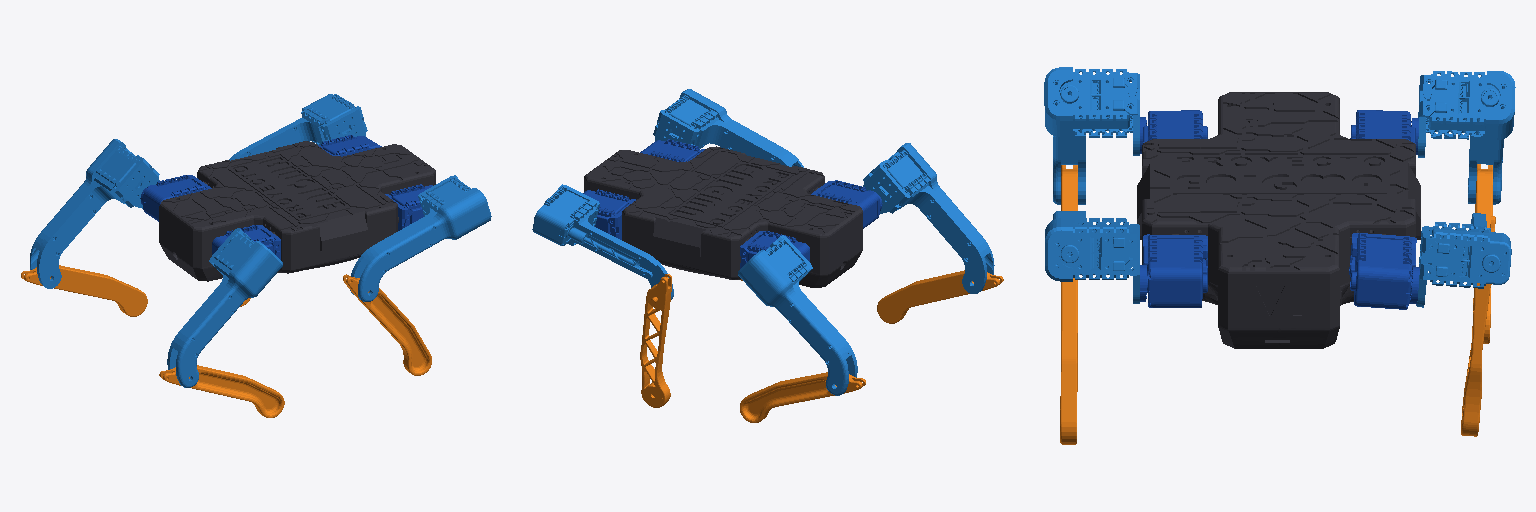
The robot description file, URDF, robot "miniqbot":
<?xml version="1.0"?>
<!--
  GENERATED FILE, DO NOT EDIT BY HAND.
  Source: Fusion design 'Fixed for URDF v43', via tools/fusion_to_urdf (see its README).
  Regenerate: python3 tools/fusion_to_urdf/build_urdf.py

  All link frames are parallel to base_link. Joint angle 0 = CAD pose.
  Total mass: 1.517 kg
-->
<robot name="miniqbot">
  <link name="base_link">
  </link>
  <link name="body_link">
    <inertial>
      <origin xyz="-0.00284444 0.000252426 -0.00959847" rpy="0 0 0"/>
      <mass value="0.738955"/>
      <inertia ixx="0.00189011" ixy="2.10814e-05" ixz="-3.39686e-05" iyy="0.00293598" iyz="3.8419e-06" izz="0.00436172"/>
    </inertial>
    <visual>
      <origin xyz="0 0 0" rpy="0 0 0"/>
      <geometry><mesh filename="package://miniqbot_description/meshes/body_link.stl"/></geometry>
      <material name="body_link_color"><color rgba="0.25 0.25 0.28 1"/></material>
    </visual>
    <collision>
      <origin xyz="-0.0001178 0 -0.0085" rpy="0 0 0"/>
      <geometry><box size="0.250036 0.168 0.055"/></geometry>
    </collision>
  </link>
  <link name="fl_hip_link">
    <inertial>
      <origin xyz="0.0268858 0.000977383 -0.000109427" rpy="0 0 0"/>
      <mass value="0.0587362"/>
      <inertia ixx="9.56414e-06" ixy="-2.51464e-07" ixz="7.65986e-09" iyy="1.61892e-05" iyz="2.28975e-07" izz="1.90158e-05"/>
    </inertial>
    <visual>
      <origin xyz="0 0 0" rpy="0 0 0"/>
      <geometry><mesh filename="package://miniqbot_description/meshes/fl_hip_link.stl"/></geometry>
      <material name="fl_hip_link_color"><color rgba="0.15 0.35 0.7 1"/></material>
    </visual>
  </link>
  <link name="fl_thigh_link">
    <inertial>
      <origin xyz="-0.0218307 0.0296596 0.0116426" rpy="0 0 0"/>
      <mass value="0.087929"/>
      <inertia ixx="2.99331e-05" ixy="9.18831e-06" ixz="-2.58275e-05" iyy="0.000102297" iyz="2.35644e-06" izz="0.000104895"/>
    </inertial>
    <visual>
      <origin xyz="0 0 0" rpy="0 0 0"/>
      <geometry><mesh filename="package://miniqbot_description/meshes/fl_thigh_link.stl"/></geometry>
      <material name="fl_thigh_link_color"><color rgba="0.2 0.55 0.85 1"/></material>
    </visual>
  </link>
  <link name="fl_shin_link">
    <inertial>
      <origin xyz="0.00459492 0.00119032 -0.0477265" rpy="0 0 0"/>
      <mass value="0.0221488"/>
      <inertia ixx="4.05706e-05" ixy="2.9591e-07" ixz="3.69262e-06" iyy="4.14926e-05" iyz="-3.19876e-06" izz="1.79082e-06"/>
    </inertial>
    <visual>
      <origin xyz="0 0 0" rpy="0 0 0"/>
      <geometry><mesh filename="package://miniqbot_description/meshes/fl_shin_link.stl"/></geometry>
      <material name="fl_shin_link_color"><color rgba="0.95 0.55 0.15 1"/></material>
    </visual>
    <collision>
      <origin xyz="0.00843536 2.34946e-05 -0.104502" rpy="0 0 0"/>
      <geometry><sphere radius="0.008"/></geometry>
    </collision>
  </link>
  <link name="fr_hip_link">
    <inertial>
      <origin xyz="0.0268858 -0.000982858 3.30753e-05" rpy="0 0 0"/>
      <mass value="0.0587362"/>
      <inertia ixx="9.56414e-06" ixy="2.51312e-07" ixz="8.07291e-09" iyy="1.61708e-05" iyz="1.43521e-08" izz="1.90341e-05"/>
    </inertial>
    <visual>
      <origin xyz="0 0 0" rpy="0 0 0"/>
      <geometry><mesh filename="package://miniqbot_description/meshes/fr_hip_link.stl"/></geometry>
      <material name="fr_hip_link_color"><color rgba="0.15 0.35 0.7 1"/></material>
    </visual>
  </link>
  <link name="fr_thigh_link">
    <inertial>
      <origin xyz="-0.0297698 -0.0337521 0.010976" rpy="0 0 0"/>
      <mass value="0.121451"/>
      <inertia ixx="5.17073e-05" ixy="-2.20512e-05" ixz="-4.9892e-05" iyy="0.000177979" iyz="-6.0845e-06" izz="0.000178035"/>
    </inertial>
    <visual>
      <origin xyz="0 0 0" rpy="0 0 0"/>
      <geometry><mesh filename="package://miniqbot_description/meshes/fr_thigh_link.stl"/></geometry>
      <material name="fr_thigh_link_color"><color rgba="0.2 0.55 0.85 1"/></material>
    </visual>
  </link>
  <link name="fr_shin_link">
    <inertial>
      <origin xyz="0.0273127 0.00562565 -0.0383379" rpy="0 0 0"/>
      <mass value="0.0228913"/>
      <inertia ixx="2.25959e-05" ixy="-8.81892e-08" ixz="1.48752e-05" iyy="3.38267e-05" iyz="1.00617e-07" izz="1.15679e-05"/>
    </inertial>
    <visual>
      <origin xyz="0 0 0" rpy="0 0 0"/>
      <geometry><mesh filename="package://miniqbot_description/meshes/fr_shin_link.stl"/></geometry>
      <material name="fr_shin_link_color"><color rgba="0.95 0.55 0.15 1"/></material>
    </visual>
    <collision>
      <origin xyz="0.0563509 0.00796313 -0.0880439" rpy="0 0 0"/>
      <geometry><sphere radius="0.008"/></geometry>
    </collision>
  </link>
  <link name="bl_hip_link">
    <inertial>
      <origin xyz="-0.0268858 0.000983387 -3.5588e-06" rpy="0 0 0"/>
      <mass value="0.0587362"/>
      <inertia ixx="9.56414e-06" ixy="2.5081e-07" ixz="-1.74294e-08" iyy="1.61737e-05" iyz="9.22677e-08" izz="1.90312e-05"/>
    </inertial>
    <visual>
      <origin xyz="0 0 0" rpy="0 0 0"/>
      <geometry><mesh filename="package://miniqbot_description/meshes/bl_hip_link.stl"/></geometry>
      <material name="bl_hip_link_color"><color rgba="0.15 0.35 0.7 1"/></material>
    </visual>
  </link>
  <link name="bl_thigh_link">
    <inertial>
      <origin xyz="-0.0339098 0.0336581 -0.00495595" rpy="0 0 0"/>
      <mass value="0.121457"/>
      <inertia ixx="0.000129399" ixy="1.63296e-05" ixz="-0.000106661" iyy="0.000231549" iyz="1.34592e-05" izz="0.000151875"/>
    </inertial>
    <visual>
      <origin xyz="0 0 0" rpy="0 0 0"/>
      <geometry><mesh filename="package://miniqbot_description/meshes/bl_thigh_link.stl"/></geometry>
      <material name="bl_thigh_link_color"><color rgba="0.2 0.55 0.85 1"/></material>
    </visual>
  </link>
  <link name="bl_shin_link">
    <inertial>
      <origin xyz="0.0424235 -0.00646197 -0.0201473" rpy="0 0 0"/>
      <mass value="0.0228913"/>
      <inertia ixx="7.4378e-06" ixy="6.45529e-07" ixz="1.25804e-05" iyy="3.38111e-05" iyz="-3.33121e-07" izz="2.67417e-05"/>
    </inertial>
    <visual>
      <origin xyz="0 0 0" rpy="0 0 0"/>
      <geometry><mesh filename="package://miniqbot_description/meshes/bl_shin_link.stl"/></geometry>
      <material name="bl_shin_link_color"><color rgba="0.95 0.55 0.15 1"/></material>
    </visual>
    <collision>
      <origin xyz="0.0918573 -0.00998787 -0.0495282" rpy="0 0 0"/>
      <geometry><sphere radius="0.008"/></geometry>
    </collision>
  </link>
  <link name="br_hip_link">
    <inertial>
      <origin xyz="-0.0268858 -0.000982968 -3.20527e-05" rpy="0 0 0"/>
      <mass value="0.0587362"/>
      <inertia ixx="9.56414e-06" ixy="-2.51285e-07" ixz="1.21833e-08" iyy="1.61708e-05" iyz="-4.04355e-09" izz="1.90342e-05"/>
    </inertial>
    <visual>
      <origin xyz="0 0 0" rpy="0 0 0"/>
      <geometry><mesh filename="package://miniqbot_description/meshes/br_hip_link.stl"/></geometry>
      <material name="br_hip_link_color"><color rgba="0.15 0.35 0.7 1"/></material>
    </visual>
  </link>
  <link name="br_thigh_link">
    <inertial>
      <origin xyz="-0.0316248 -0.0337997 -0.00254893" rpy="0 0 0"/>
      <mass value="0.121457"/>
      <inertia ixx="0.000111367" ixy="-1.73127e-05" ixz="-8.0819e-05" iyy="0.000178787" iyz="-1.45574e-05" izz="0.000119019"/>
    </inertial>
    <visual>
      <origin xyz="0 0 0" rpy="0 0 0"/>
      <geometry><mesh filename="package://miniqbot_description/meshes/br_thigh_link.stl"/></geometry>
      <material name="br_thigh_link_color"><color rgba="0.2 0.55 0.85 1"/></material>
    </visual>
  </link>
  <link name="br_shin_link">
    <inertial>
      <origin xyz="0.0419939 0.00582006 -0.0212147" rpy="0 0 0"/>
      <mass value="0.0228913"/>
      <inertia ixx="7.96652e-06" ixy="-2.44118e-07" ixz="1.29824e-05" iyy="3.38251e-05" iyz="1.13488e-07" izz="2.61989e-05"/>
    </inertial>
    <visual>
      <origin xyz="0 0 0" rpy="0 0 0"/>
      <geometry><mesh filename="package://miniqbot_description/meshes/br_shin_link.stl"/></geometry>
      <material name="br_shin_link_color"><color rgba="0.95 0.55 0.15 1"/></material>
    </visual>
    <collision>
      <origin xyz="0.0908079 0.00841257 -0.051708" rpy="0 0 0"/>
      <geometry><sphere radius="0.008"/></geometry>
    </collision>
  </link>
  <link name="fl_foot">
  </link>
  <link name="fr_foot">
  </link>
  <link name="bl_foot">
  </link>
  <link name="br_foot">
  </link>

  <!-- base_link is a plain frame at the body -->
  <joint name="base_to_body" type="fixed">
    <parent link="base_link"/>
    <child link="body_link"/>
    <origin xyz="0 0 0" rpy="0 0 0"/>
  </joint>
  <!-- CAD joint 'motor1-FL', servo M1_1 -->
  <joint name="fl_hip_joint" type="revolute">
    <parent link="body_link"/>
    <child link="fl_hip_link"/>
    <origin xyz="0.06204 0.0612574 0" rpy="0 0 0"/>
    <axis xyz="1 0 0"/>
    <limit lower="-0.6" upper="0.6" effort="1.5" velocity="6.17"/>
    <dynamics damping="0.05" friction="0.02"/>
  </joint>
  <!-- CAD joint 'motor2-FL', servo M2_1 -->
  <joint name="fl_thigh_joint" type="revolute">
    <parent link="fl_hip_link"/>
    <child link="fl_thigh_link"/>
    <origin xyz="0.0415 0.0208732 -0.00167086" rpy="0 0 0"/>
    <axis xyz="0 1 0"/>
    <limit lower="-1.4" upper="1.4" effort="1.5" velocity="6.17"/>
    <dynamics damping="0.05" friction="0.02"/>
  </joint>
  <!-- CAD joint 'Revolute 197', servo M3_1 -->
  <joint name="fl_knee_joint" type="revolute">
    <parent link="fl_thigh_link"/>
    <child link="fl_shin_link"/>
    <origin xyz="-0.107392 0.0341438 -0.0308935" rpy="0 0 0"/>
    <axis xyz="0 1 0"/>
    <limit lower="-1.4" upper="1.4" effort="1.5" velocity="6.17"/>
    <dynamics damping="0.05" friction="0.02"/>
  </joint>
  <!-- CAD joint 'motor1-FR', servo M1_2 -->
  <joint name="fr_hip_joint" type="revolute">
    <parent link="body_link"/>
    <child link="fr_hip_link"/>
    <origin xyz="0.06204 -0.0612574 0" rpy="0 0 0"/>
    <axis xyz="1 0 0"/>
    <limit lower="-0.6" upper="0.6" effort="1.5" velocity="6.17"/>
    <dynamics damping="0.05" friction="0.02"/>
  </joint>
  <!-- CAD joint 'motor2-FR', servo M2_2 -->
  <joint name="fr_thigh_joint" type="revolute">
    <parent link="fr_hip_link"/>
    <child link="fr_thigh_link"/>
    <origin xyz="0.0415 -0.0209398 9.48605e-05" rpy="0 0 0"/>
    <axis xyz="0 1 0"/>
    <limit lower="-1.4" upper="1.4" effort="1.5" velocity="6.17"/>
    <dynamics damping="0.05" friction="0.02"/>
  </joint>
  <!-- CAD joint 'eje-pata-FR', servo M3_2 -->
  <joint name="fr_knee_joint" type="revolute">
    <parent link="fr_thigh_link"/>
    <child link="fr_shin_link"/>
    <origin xyz="-0.106306 -0.0466442 -0.031726" rpy="0 0 0"/>
    <axis xyz="0 1 0"/>
    <limit lower="-1.4" upper="1.4" effort="1.5" velocity="6.17"/>
    <dynamics damping="0.05" friction="0.02"/>
  </joint>
  <!-- CAD joint 'motor1-BL', servo M1_3 -->
  <joint name="bl_hip_joint" type="revolute">
    <parent link="body_link"/>
    <child link="bl_hip_link"/>
    <origin xyz="-0.06204 0.0612574 0" rpy="0 0 0"/>
    <axis xyz="1 0 0"/>
    <limit lower="-0.6" upper="0.6" effort="1.5" velocity="6.17"/>
    <dynamics damping="0.05" friction="0.02"/>
  </joint>
  <!-- CAD joint 'motor2-BL', servo M2_3 -->
  <joint name="bl_thigh_joint" type="revolute">
    <parent link="bl_hip_link"/>
    <child link="bl_thigh_link"/>
    <origin xyz="-0.0415 0.0209288 -0.000685177" rpy="0 0 0"/>
    <axis xyz="0 1 0"/>
    <limit lower="-1.4" upper="1.4" effort="1.5" velocity="6.17"/>
    <dynamics damping="0.05" friction="0.02"/>
  </joint>
  <!-- CAD joint 'eje-pata-BL', servo M3_3 -->
  <joint name="bl_knee_joint" type="revolute">
    <parent link="bl_thigh_link"/>
    <child link="bl_shin_link"/>
    <origin xyz="-0.0849135 0.0441359 -0.0729724" rpy="0 0 0"/>
    <axis xyz="0 1 0"/>
    <limit lower="-1.4" upper="1.4" effort="1.5" velocity="6.17"/>
    <dynamics damping="0.05" friction="0.02"/>
  </joint>
  <!-- CAD joint 'motor1-BR', servo M1_4 -->
  <joint name="br_hip_joint" type="revolute">
    <parent link="body_link"/>
    <child link="br_hip_link"/>
    <origin xyz="-0.06204 -0.0612574 0" rpy="0 0 0"/>
    <axis xyz="1 0 0"/>
    <limit lower="-0.6" upper="0.6" effort="1.5" velocity="6.17"/>
    <dynamics damping="0.05" friction="0.02"/>
  </joint>
  <!-- CAD joint 'motor2-BR', servo M2_4 -->
  <joint name="br_thigh_joint" type="revolute">
    <parent link="br_hip_link"/>
    <child link="br_thigh_link"/>
    <origin xyz="-0.0415 -0.02094 -2.05161e-05" rpy="0 0 0"/>
    <axis xyz="0 1 0"/>
    <limit lower="-1.4" upper="1.4" effort="1.5" velocity="6.17"/>
    <dynamics damping="0.05" friction="0.02"/>
  </joint>
  <!-- CAD joint 'eje-pata-BR', servo M3_4 -->
  <joint name="br_knee_joint" type="revolute">
    <parent link="br_thigh_link"/>
    <child link="br_shin_link"/>
    <origin xyz="-0.0835459 -0.0464284 -0.0731283" rpy="0 0 0"/>
    <axis xyz="0 1 0"/>
    <limit lower="-1.4" upper="1.4" effort="1.5" velocity="6.17"/>
    <dynamics damping="0.05" friction="0.02"/>
  </joint>
  <!-- center of the foot contact sphere -->
  <joint name="fl_foot_joint" type="fixed">
    <parent link="fl_shin_link"/>
    <child link="fl_foot"/>
    <origin xyz="0.00843536 2.34946e-05 -0.104502" rpy="0 0 0"/>
  </joint>
  <!-- center of the foot contact sphere -->
  <joint name="fr_foot_joint" type="fixed">
    <parent link="fr_shin_link"/>
    <child link="fr_foot"/>
    <origin xyz="0.0563509 0.00796313 -0.0880439" rpy="0 0 0"/>
  </joint>
  <!-- center of the foot contact sphere -->
  <joint name="bl_foot_joint" type="fixed">
    <parent link="bl_shin_link"/>
    <child link="bl_foot"/>
    <origin xyz="0.0918573 -0.00998787 -0.0495282" rpy="0 0 0"/>
  </joint>
  <!-- center of the foot contact sphere -->
  <joint name="br_foot_joint" type="fixed">
    <parent link="br_shin_link"/>
    <child link="br_foot"/>
    <origin xyz="0.0908079 0.00841257 -0.051708" rpy="0 0 0"/>
  </joint>
</robot>

--- Render facts (derived) ---
3 views of the same robot in one strip: view 1: azimuth 30°, elevation 25°; view 2: azimuth 150°, elevation 25°; view 3: azimuth 270°, elevation 25° (orthographic).
Model miniqbot with 18 links and 17 joints (12 revolute, 5 fixed), rooted at base_link, posed every joint at zero.
Links seen in each view (by area): view 1: body_link, bl_thigh_link, br_thigh_link, fr_thigh_link, fl_thigh_link, fr_shin_link, bl_shin_link, br_shin_link, bl_hip_link, fr_hip_link, fl_hip_link, br_hip_link; view 2: body_link, br_thigh_link, bl_thigh_link, fl_thigh_link, fr_thigh_link, fl_shin_link, bl_shin_link, br_shin_link, br_hip_link, fl_hip_link, bl_hip_link, fr_hip_link; view 3: body_link, br_thigh_link, bl_thigh_link, fr_thigh_link, fl_thigh_link, fl_hip_link, fr_hip_link, fr_shin_link, fl_shin_link, bl_hip_link, br_hip_link, bl_shin_link (+1 smaller).
Link boxes in pixels (<box>): body_link: <box>159,141,435,281</box>; bl_thigh_link: <box>30,139,159,288</box>; br_thigh_link: <box>167,228,282,387</box>; fr_thigh_link: <box>350,175,491,301</box>; fl_thigh_link: <box>229,94,367,160</box>; fr_shin_link: <box>343,274,431,375</box>; bl_shin_link: <box>21,265,147,316</box>; br_shin_link: <box>159,365,284,417</box>; bl_hip_link: <box>140,175,211,221</box>; fr_hip_link: <box>385,184,432,230</box>; fl_hip_link: <box>318,135,381,156</box>; br_hip_link: <box>212,225,280,259</box>; body_link: <box>584,146,862,287</box>; br_thigh_link: <box>863,143,994,293</box>; bl_thigh_link: <box>738,235,857,395</box>; fl_thigh_link: <box>532,184,673,299</box>; fr_thigh_link: <box>653,89,803,167</box>; fl_shin_link: <box>640,274,671,407</box>; bl_shin_link: <box>740,372,865,422</box>; br_shin_link: <box>877,270,1003,323</box>; br_hip_link: <box>811,180,882,228</box>; fl_hip_link: <box>583,189,635,239</box>; bl_hip_link: <box>740,231,809,268</box>; fr_hip_link: <box>640,139,704,161</box>; body_link: <box>1137,92,1420,348</box>; br_thigh_link: <box>1044,67,1139,204</box>; bl_thigh_link: <box>1418,71,1515,204</box>; fr_thigh_link: <box>1045,211,1139,303</box>; fl_thigh_link: <box>1416,213,1511,307</box>; fl_hip_link: <box>1349,233,1419,309</box>; fr_hip_link: <box>1140,234,1207,307</box>; fr_shin_link: <box>1060,278,1077,444</box>; fl_shin_link: <box>1461,216,1495,436</box>; bl_hip_link: <box>1350,110,1418,154</box>; br_hip_link: <box>1140,110,1207,153</box>; bl_shin_link: <box>1475,164,1492,343</box>.
Size in the robot's own frame: 0.3377 by 0.2783 by 0.1858 metres.
Meshes: 13 distinct files referenced, 13 mesh visuals loaded (13 binary STL).
